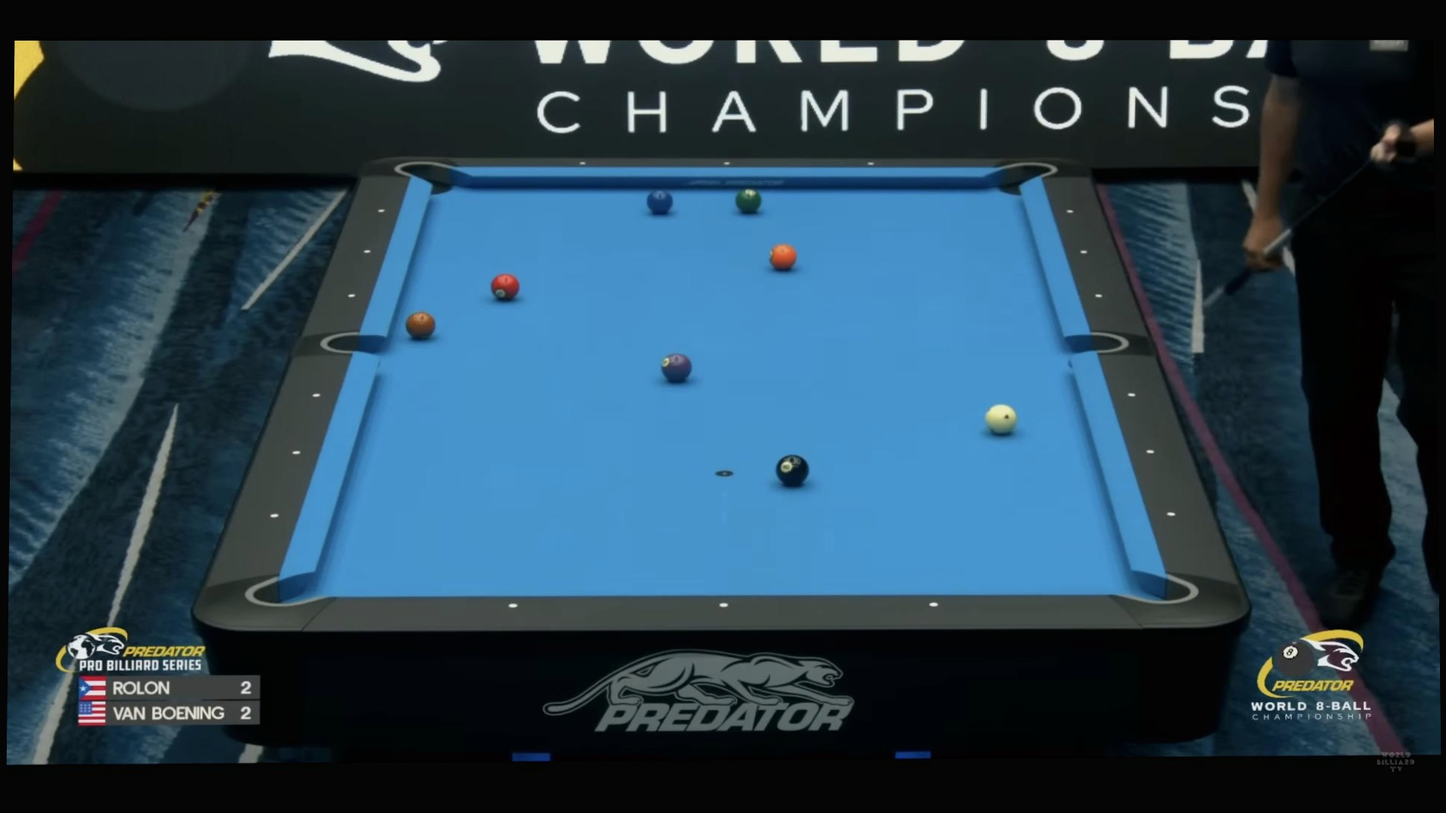Black: (506, 600, 519, 612), (718, 600, 731, 611), (928, 599, 941, 610), (1125, 390, 1137, 401), (1165, 509, 1177, 519), (1144, 447, 1156, 457), (292, 449, 303, 458), (269, 511, 279, 520), (311, 392, 321, 401), (347, 291, 356, 300), (377, 206, 386, 215), (1094, 291, 1103, 300), (1065, 207, 1074, 216), (363, 247, 372, 255), (1079, 248, 1088, 256), (579, 159, 587, 167), (723, 160, 731, 167), (867, 160, 875, 167)
Cue: (661, 353, 692, 381), (490, 273, 520, 300), (406, 312, 436, 339), (769, 243, 797, 271), (735, 188, 762, 212), (646, 190, 673, 214)
Solid: (775, 454, 809, 486)
Stripe: (984, 404, 1017, 434)
